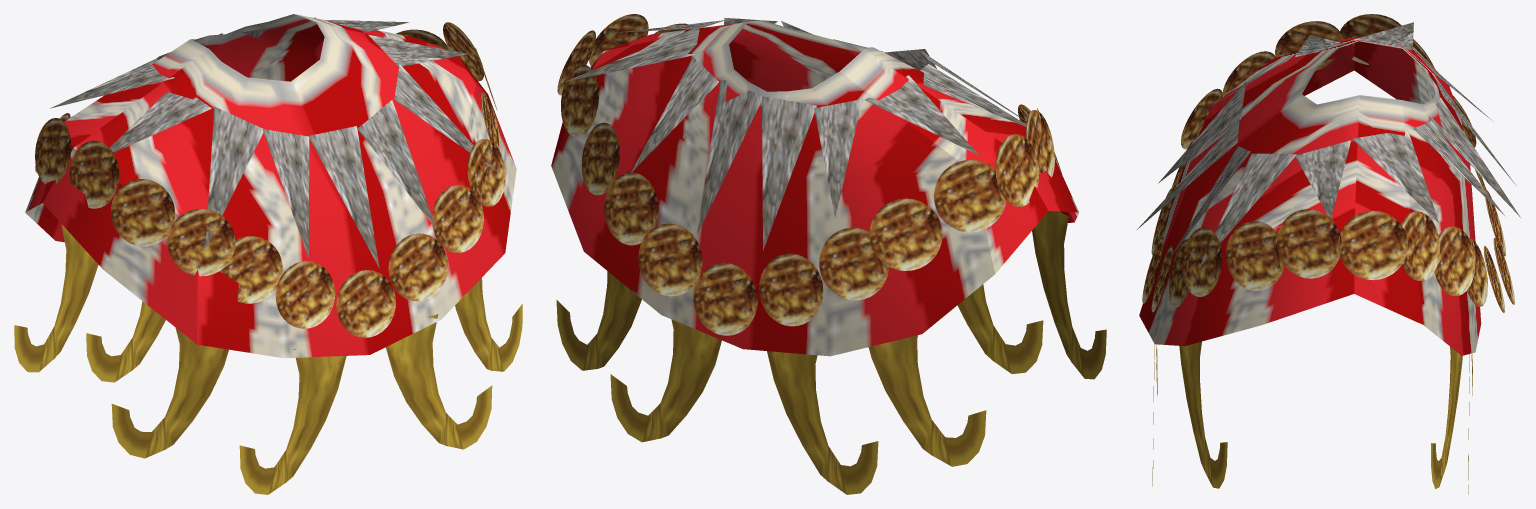
File: moch_peitoral_2.dae
3 renders of one model, left to right at view 1: azimuth 30°, elevation 25°; view 2: azimuth 150°, elevation 25°; view 3: azimuth 270°, elevation 25°, orthographic. The views are drawn at different scales.
Visible parts, largest first — view 1: moch_peitoral_2; view 2: moch_peitoral_2; view 3: moch_peitoral_2.
Part boxes in pixels (left/top/right/bottom): moch_peitoral_2: left=14, top=14, right=522, bottom=494; moch_peitoral_2: left=551, top=14, right=1106, bottom=494; moch_peitoral_2: left=1137, top=14, right=1520, bottom=494.
Bounding box in the file's own units: 1.25 × 0.9151 × 0.9797.
